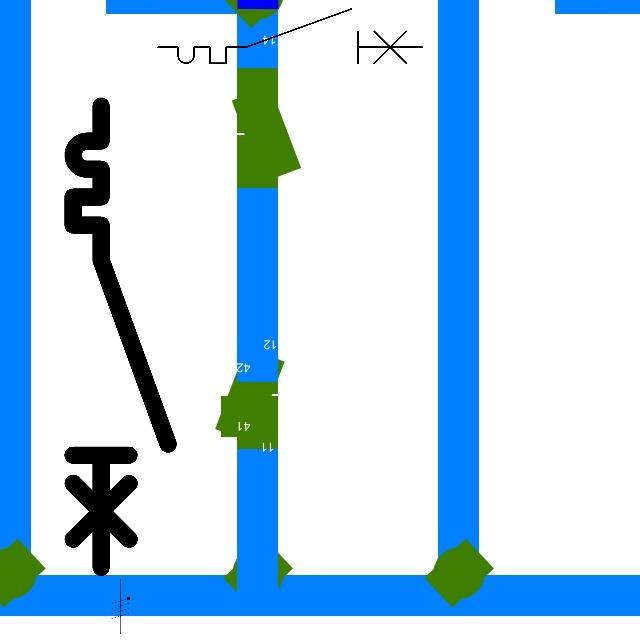interruptor_termomagnetico: (61, 94, 179, 579), (151, 2, 429, 70)
